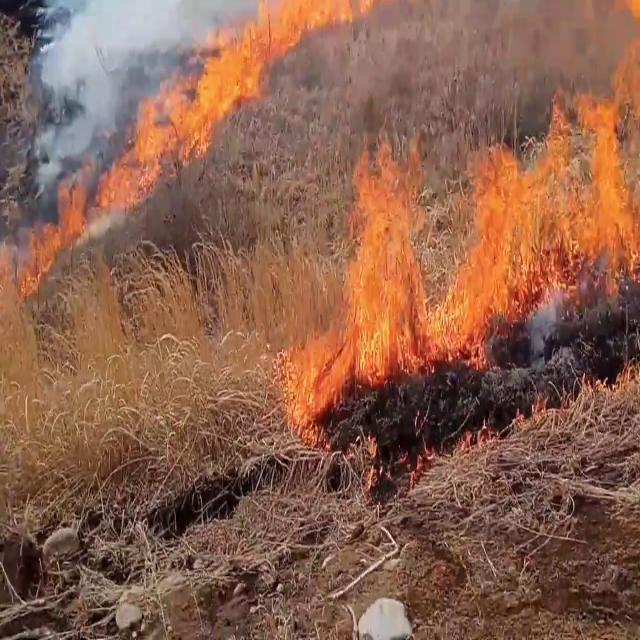Fire: (284, 9, 640, 427), (97, 2, 300, 206), (17, 162, 92, 296)
